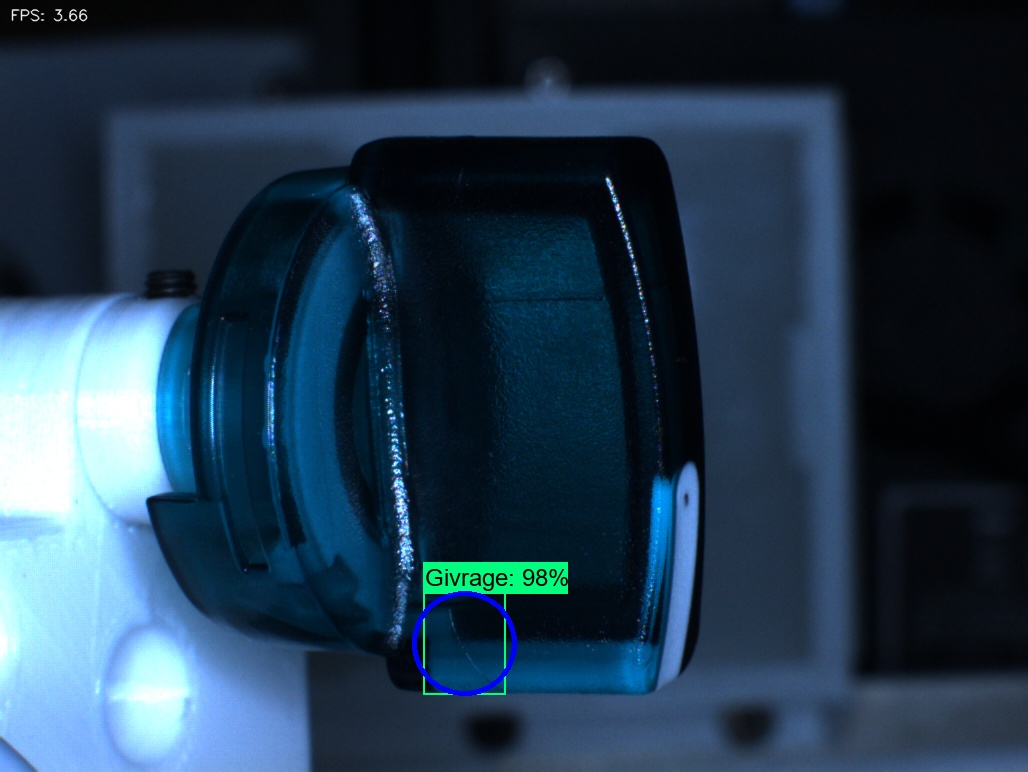PointNoir: (650, 463, 718, 539)
